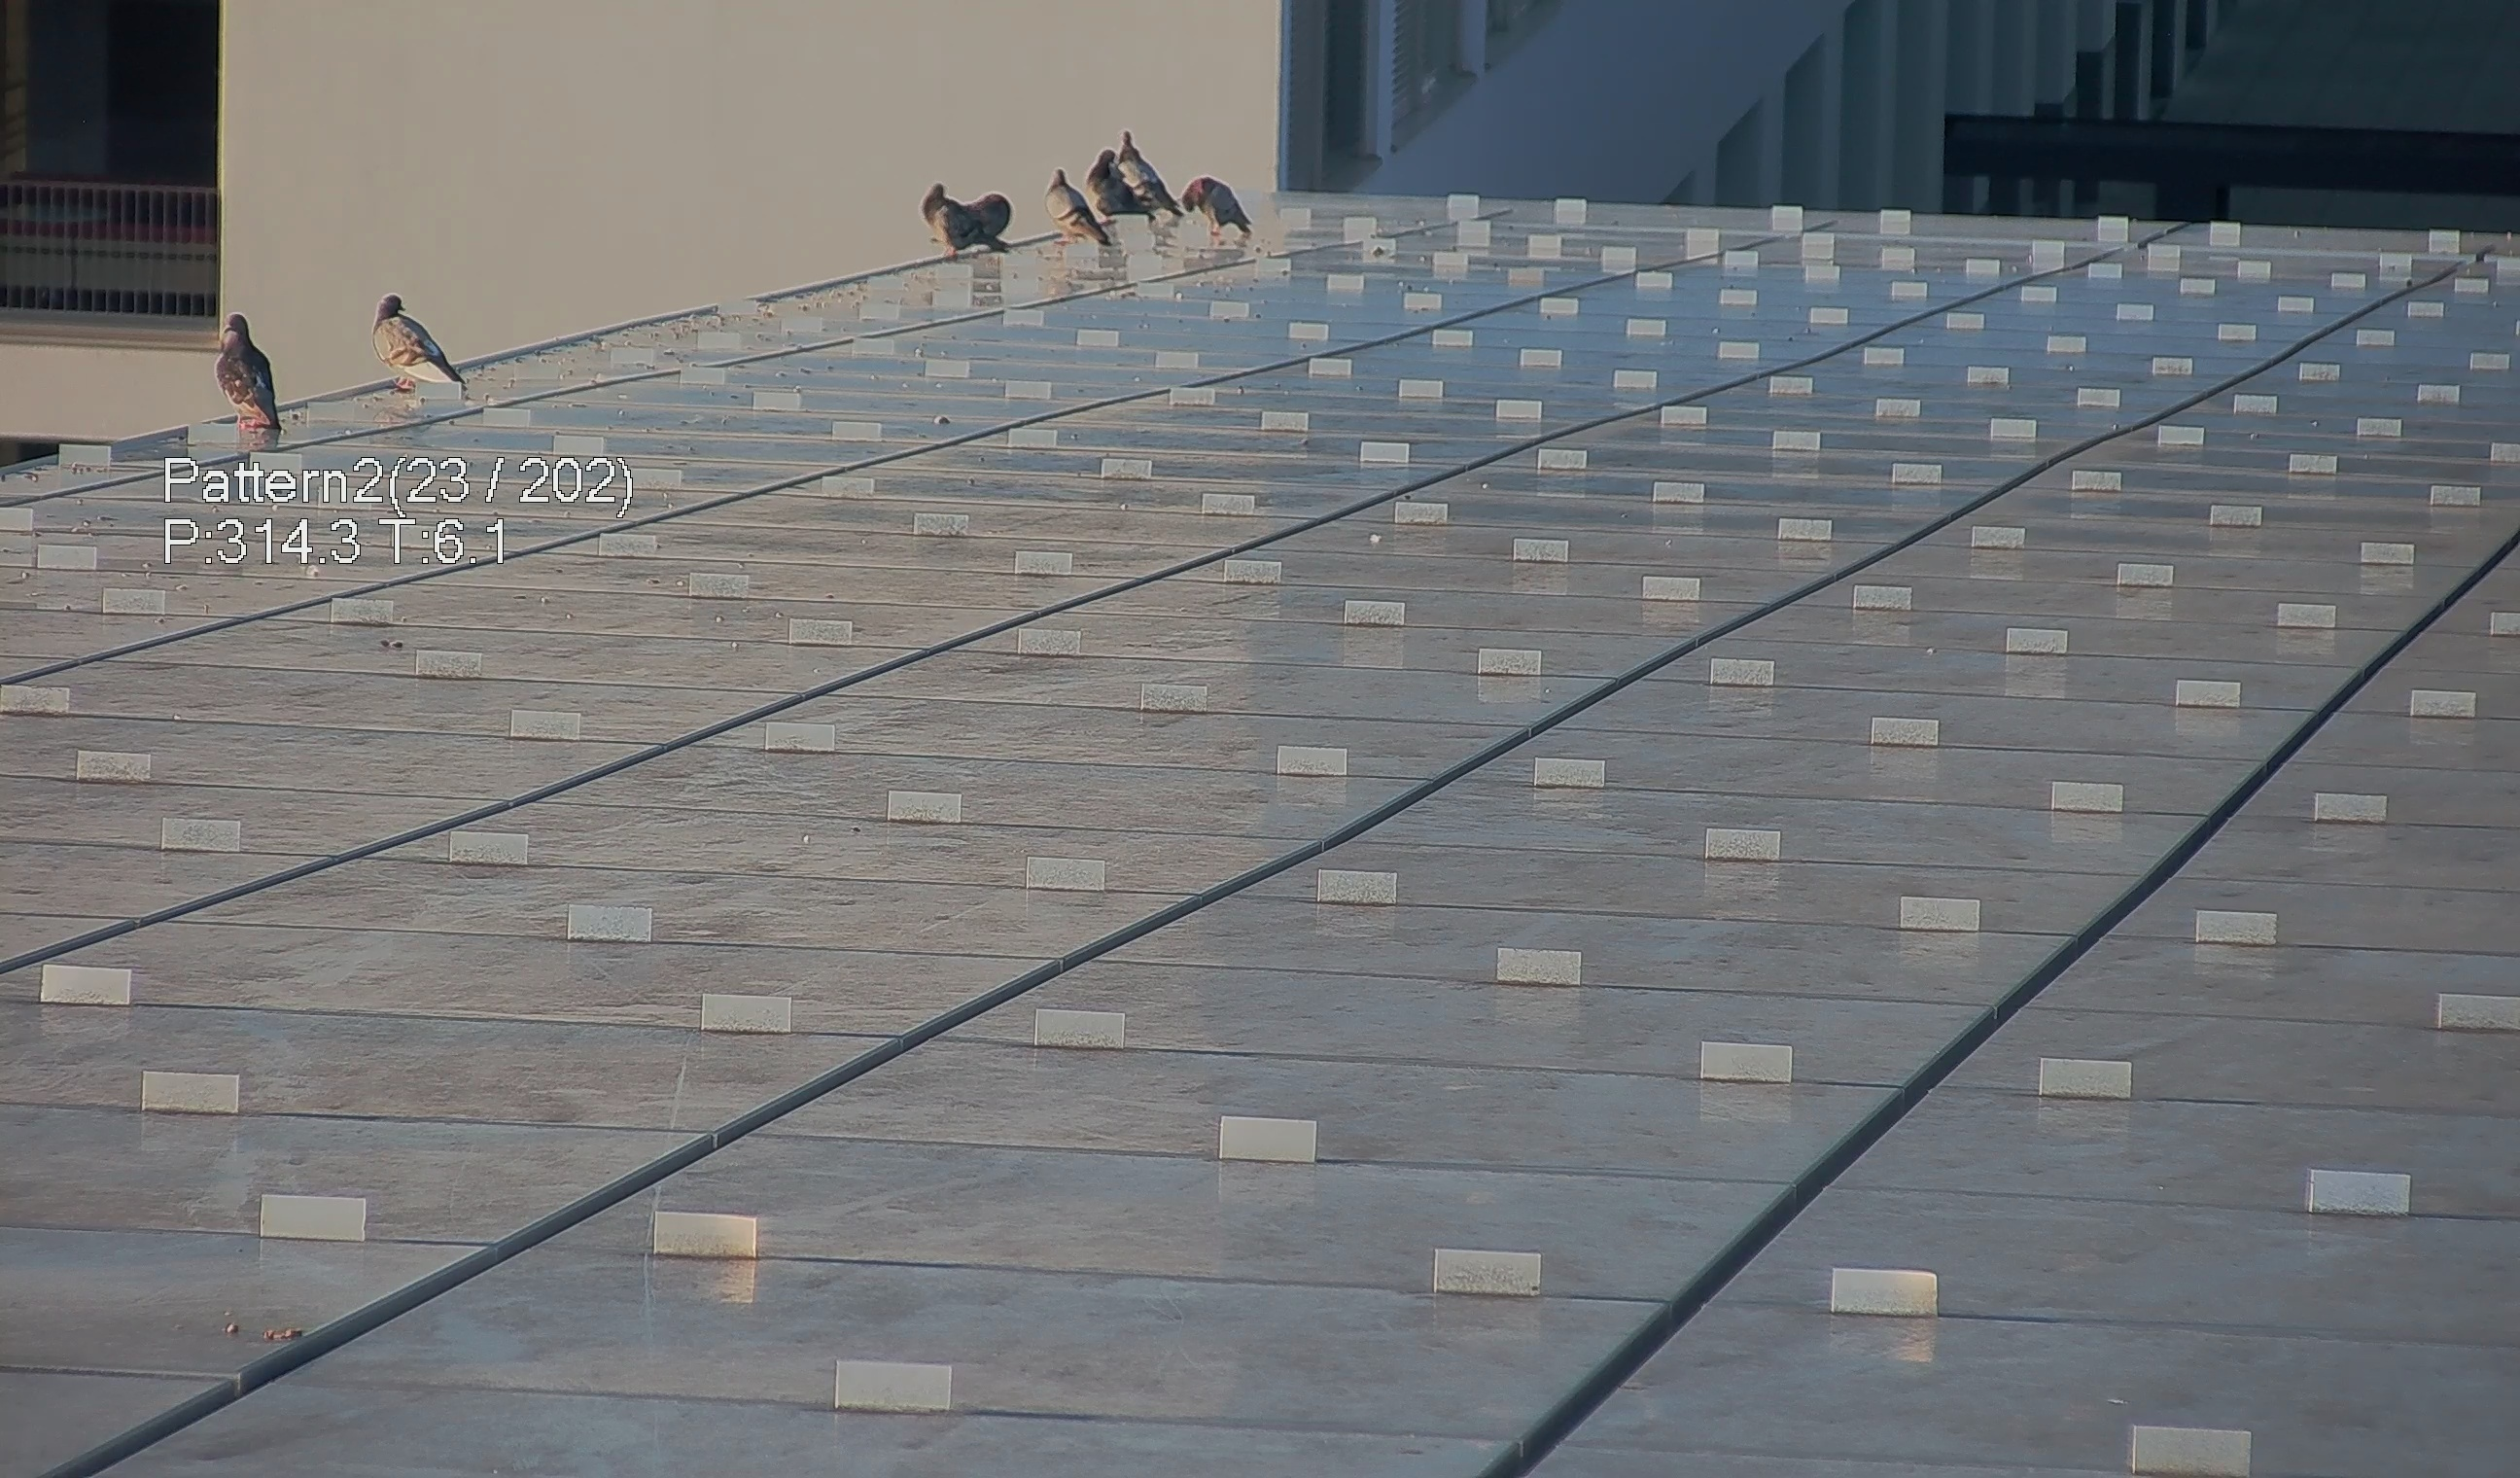Pigeon: (343, 285, 459, 403), (209, 306, 292, 447), (913, 167, 1016, 266), (1185, 172, 1259, 243), (1043, 167, 1108, 246), (1115, 128, 1176, 211), (1082, 146, 1148, 220)
